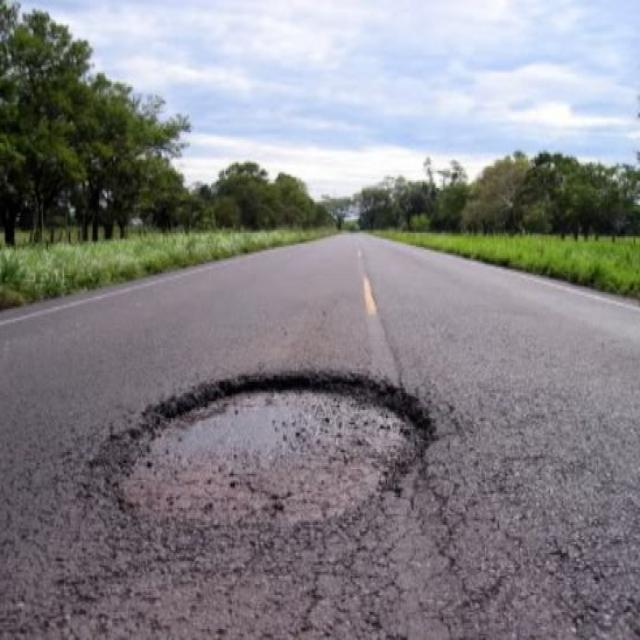pothole: (94, 364, 446, 532)
